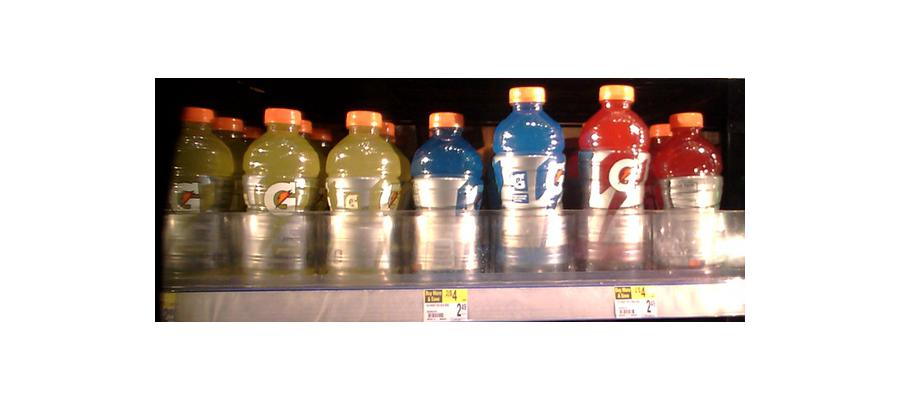bottle: (488, 80, 571, 281), (578, 80, 653, 278), (321, 108, 400, 286), (238, 107, 316, 287), (405, 109, 482, 284), (163, 104, 230, 289), (655, 107, 721, 274)
